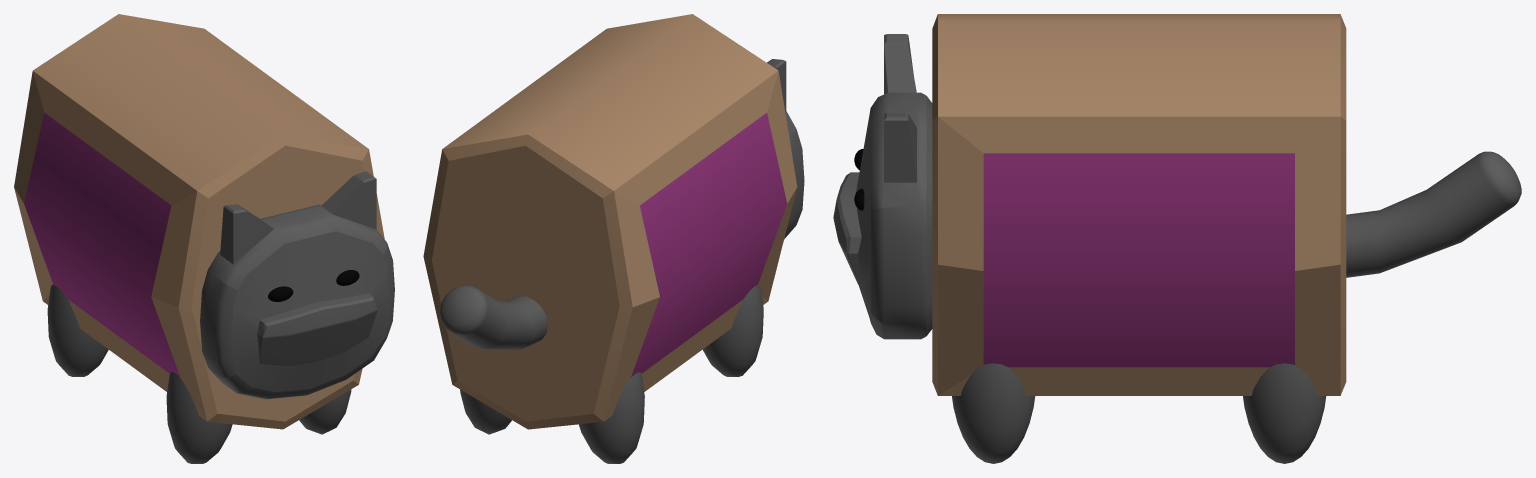
File: neoncat.fbx
The picture shows the model from 3 angles, left to right: view 1: azimuth 30°, elevation 25°; view 2: azimuth 150°, elevation 25°; view 3: azimuth 270°, elevation 25°; orthographic projection. The views are drawn at different scales.
Parts seen in each view (by area): view 1: catBody, catHead, rightFoot (×2), leftFoot; view 2: catBody, rightFoot (×2), tail, catHead, leftFoot; view 3: catBody, catHead, leftFoot (×2), tail.
Boxes of the visible parts, left/top/right/bottom form: catBody: left=14, top=14, right=384, bottom=429; catHead: left=200, top=171, right=394, bottom=399; rightFoot (×2): left=47, top=284, right=232, bottom=463; leftFoot: left=299, top=389, right=351, bottom=434; catBody: left=423, top=14, right=797, bottom=429; rightFoot (×2): left=579, top=285, right=763, bottom=463; tail: left=439, top=285, right=547, bottom=349; catHead: left=767, top=59, right=804, bottom=239; leftFoot: left=460, top=389, right=511, bottom=434; catBody: left=932, top=14, right=1346, bottom=395; catHead: left=833, top=34, right=932, bottom=339; leftFoot (×2): left=952, top=363, right=1326, bottom=463; tail: left=1346, top=151, right=1521, bottom=277.
Bounding box in the file's own units: 1.9 × 2.65 × 4.09.
